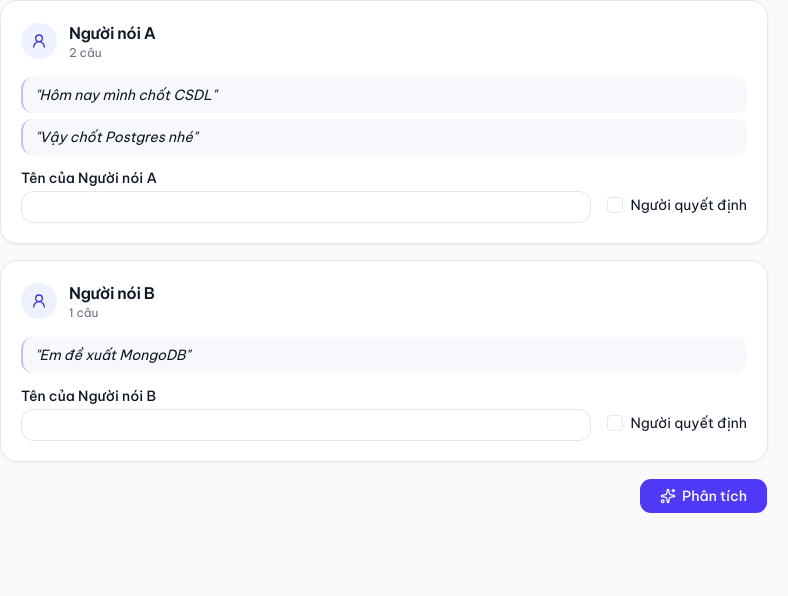
Test: blocks submission with missing or duplicate names
This screenshot has width=788, height=596.
Step 1. Type "Lan" into the field labelled "Tên của Người nói A" → (306, 207), box [21, 191, 591, 223]
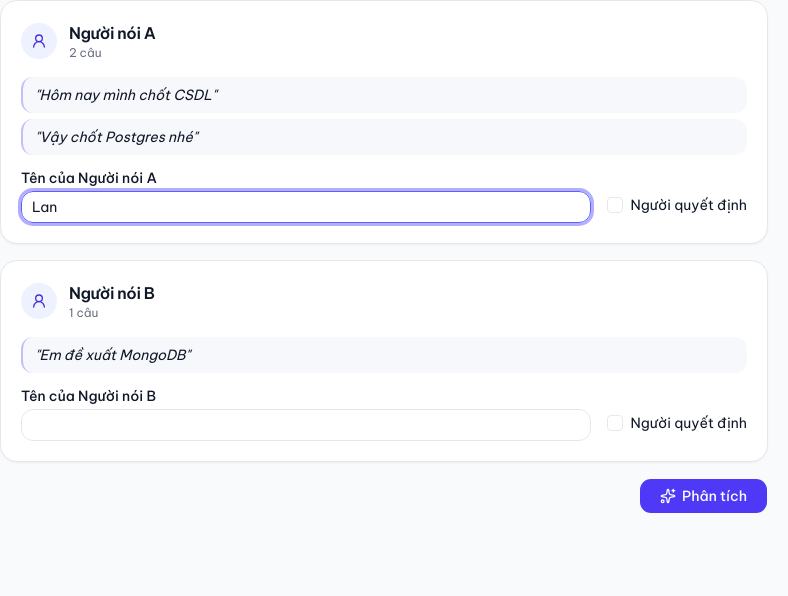
Step 2. Click the button "Phân tích" → (704, 496), box [639, 478, 768, 514]
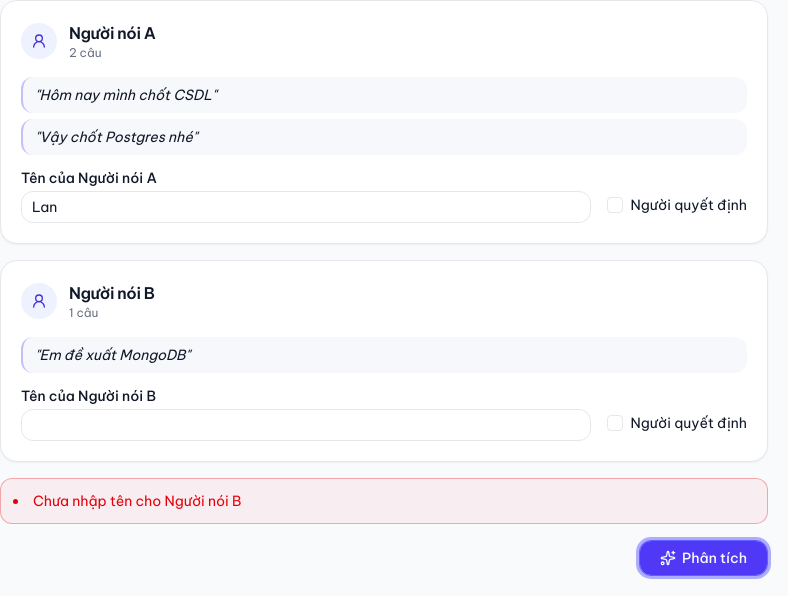
Expected: the list item "Chưa nhập tên cho Người nói B" is shown, [33, 492, 242, 510]
Step 3. Type "lan" into the field labelled "Tên của Người nói B" → (306, 425), box [21, 409, 591, 441]
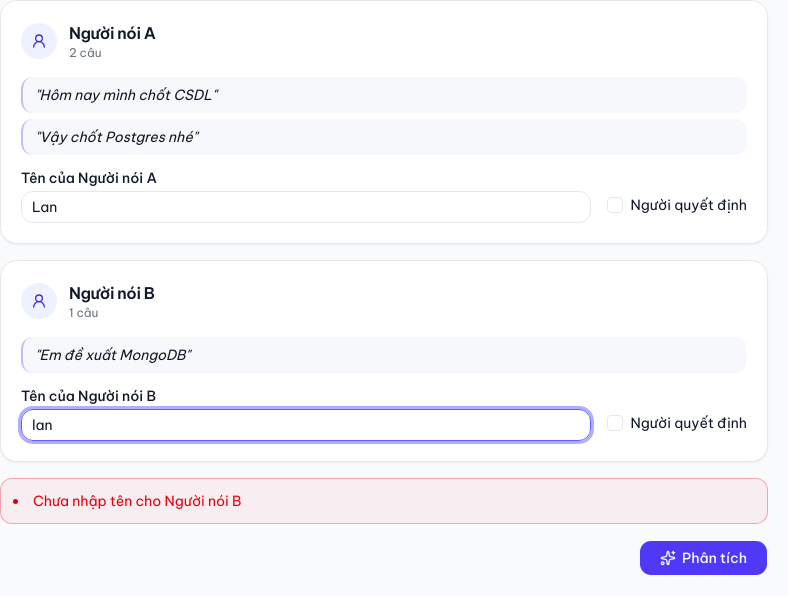
Step 4. Click the button "Phân tích" → (704, 558), box [639, 540, 768, 576]
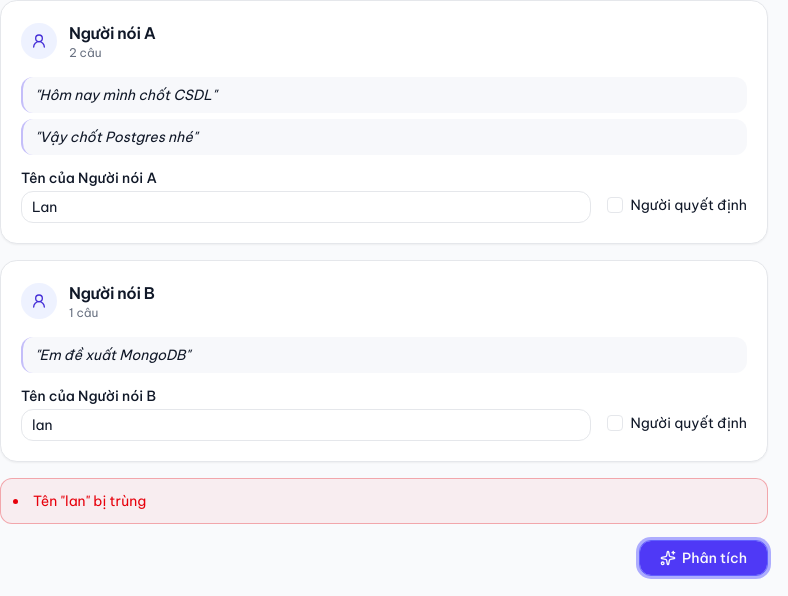
Expected: the list item "Tên \"lan\" bị trùng" is shown, [33, 492, 146, 510]
